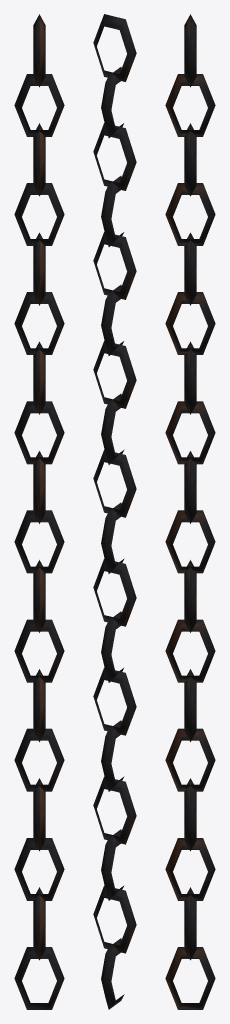
File: chain.glb
The picture shows the model from 3 angles, left to right: view 1: azimuth 90°, elevation 25°; view 2: azimuth 150°, elevation 25°; view 3: azimuth 270°, elevation 25°; orthographic projection.
Visible parts, largest first — view 1: chain; view 2: chain; view 3: chain.
Part boxes in pixels (x1,y1,x2,y2): chain: (14, 14, 64, 1009); chain: (93, 14, 136, 1009); chain: (165, 14, 215, 1009).
Bounding box in the file's own units: 0.1 × 2.18 × 0.1.
1 material, 1 textured.
